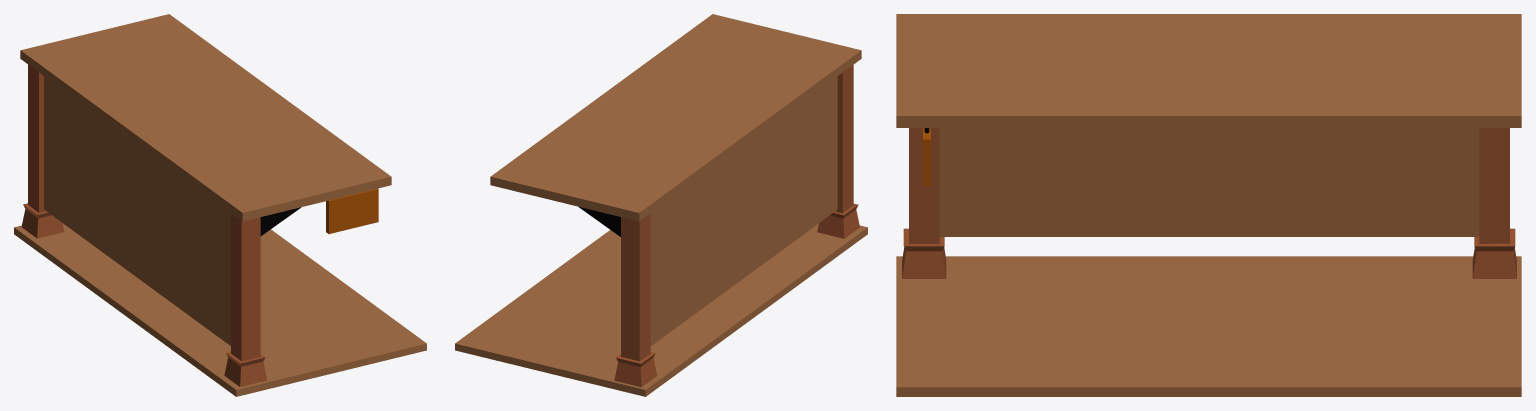
Rendered from Train Station.fbx.
3 renders of one model, left to right at view 1: azimuth 30°, elevation 25°; view 2: azimuth 150°, elevation 25°; view 3: azimuth 270°, elevation 25°, orthographic. The views are drawn at different scales.
Visible parts, largest first — view 1: Train Station; view 2: Train Station; view 3: Train Station.
Part boxes in pixels (<box>): Train Station: <box>14,14,426,396</box>; Train Station: <box>455,14,867,396</box>; Train Station: <box>896,14,1521,396</box>.
Size of the model in its own units: 1380 by 1261 by 2786.
